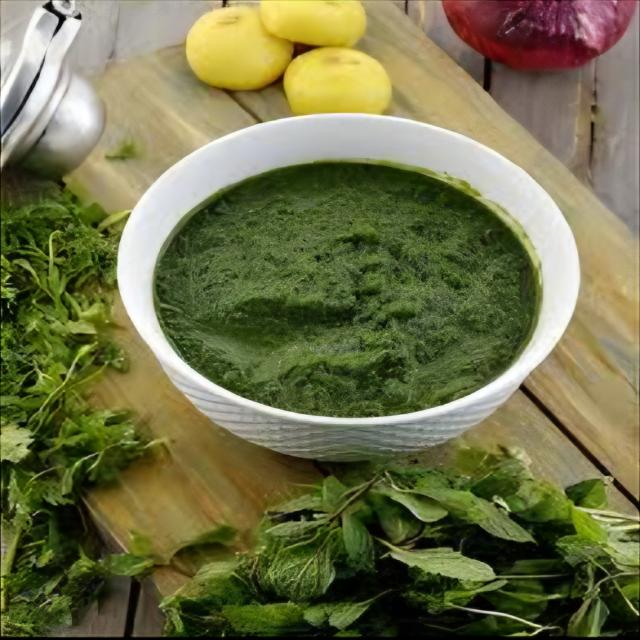GREEN CHUTNEY: (129, 121, 556, 419)
